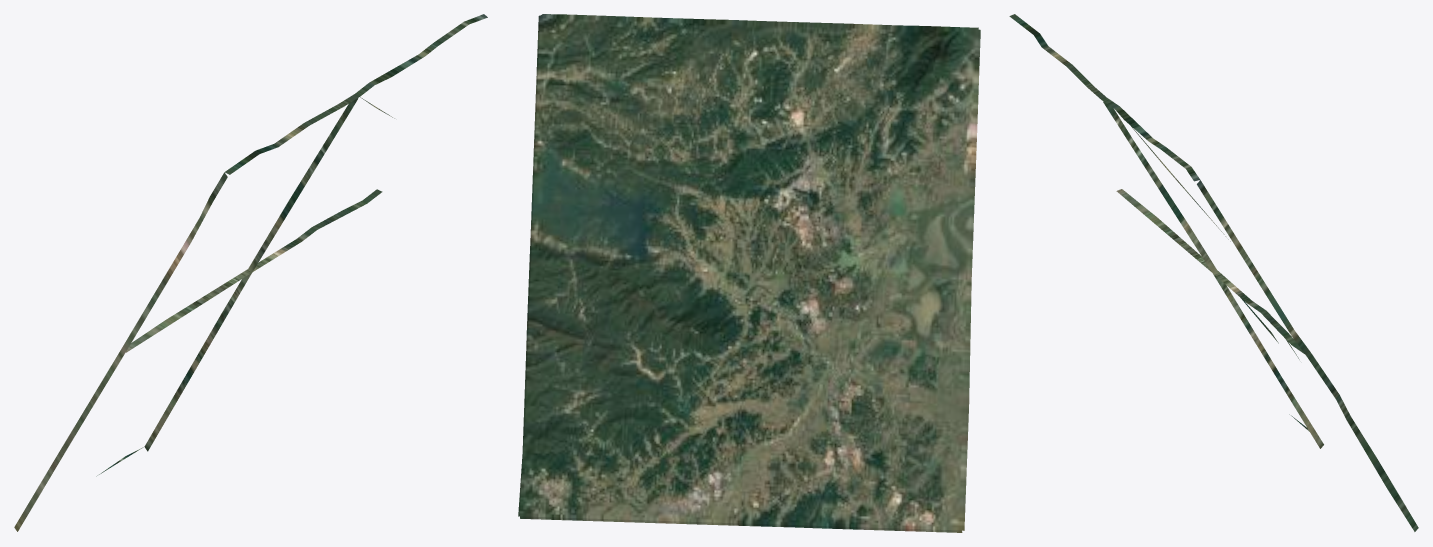
3 views of the same model, side by side, from view 1: azimuth 30°, elevation 25°; view 2: azimuth 150°, elevation 25°; view 3: azimuth 270°, elevation 25° (orthographic). The views are drawn at different scales.
Size of the model in its own units: 79157 by 69397 by 64818.
1 material, 1 textured.
